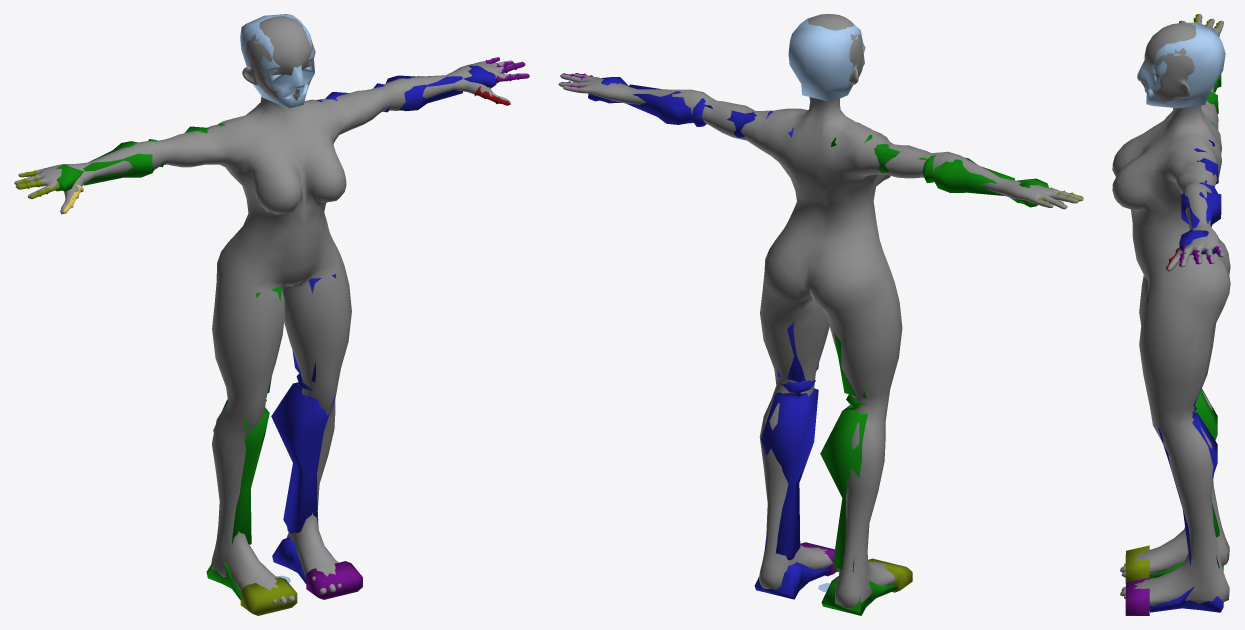
The model's file is dummy_01.obj.
3 views of the same model, side by side, from view 1: azimuth 30°, elevation 25°; view 2: azimuth 150°, elevation 25°; view 3: azimuth 270°, elevation 25° (orthographic).
Visible parts, largest first — view 1: Body, Bip001_L_Calf, Head, Bip001_Head, Bip001_R_Calf, Bip001_R_Toe0, Bip001_L_Toe0, Bip001_R_Forearm, Bip001_L_Forearm, Bip001_L_Foot; view 2: Body, Bip001_L_Calf, Bip001_Head, Bip001_R_Calf, Bip001_R_Forearm, Bip001_L_Forearm, Bip001_L_Foot, Head, Bip001_R_Foot; view 3: Body, Bip001_Head, Head, Bip001_L_Forearm, Bip001_L_Calf, Bip001_L_Toe0, Bip001_L_Foot, Bip001_R_Calf, Bip001_R_Toe0, Bip001_L_Hand, Bip001_L_UpperArm.
Part boxes in pixels (x1=…): Body: x1=14, y1=57, x2=528, y2=604; Bip001_L_Calf: x1=271, y1=373, x2=335, y2=533; Head: x1=242, y1=16, x2=313, y2=100; Bip001_Head: x1=240, y1=14, x2=315, y2=107; Bip001_R_Calf: x1=213, y1=399, x2=269, y2=544; Bip001_R_Toe0: x1=240, y1=577, x2=297, y2=615; Bip001_L_Toe0: x1=306, y1=561, x2=362, y2=599; Bip001_R_Forearm: x1=83, y1=139, x2=164, y2=185; Bip001_L_Forearm: x1=374, y1=75, x2=462, y2=112; Bip001_L_Foot: x1=272, y1=536, x2=331, y2=583; Body: x1=558, y1=73, x2=1083, y2=608; Bip001_L_Calf: x1=761, y1=380, x2=818, y2=560; Bip001_Head: x1=788, y1=17, x2=865, y2=102; Bip001_R_Calf: x1=820, y1=394, x2=867, y2=572; Bip001_R_Forearm: x1=922, y1=155, x2=1014, y2=195; Bip001_L_Forearm: x1=626, y1=84, x2=706, y2=126; Bip001_L_Foot: x1=754, y1=562, x2=830, y2=599; Head: x1=808, y1=14, x2=863, y2=84; Bip001_R_Foot: x1=821, y1=576, x2=897, y2=615; Body: x1=1112, y1=14, x2=1230, y2=605; Bip001_Head: x1=1137, y1=22, x2=1225, y2=108; Head: x1=1140, y1=23, x2=1196, y2=102; Bip001_L_Forearm: x1=1181, y1=182, x2=1221, y2=228; Bip001_L_Calf: x1=1158, y1=406, x2=1219, y2=568; Bip001_L_Toe0: x1=1125, y1=577, x2=1149, y2=615; Bip001_L_Foot: x1=1149, y1=587, x2=1223, y2=612; Bip001_R_Calf: x1=1194, y1=389, x2=1219, y2=537; Bip001_R_Toe0: x1=1125, y1=545, x2=1149, y2=583; Bip001_L_Hand: x1=1179, y1=229, x2=1216, y2=254; Bip001_L_UpperArm: x1=1194, y1=148, x2=1218, y2=184.
Size of the model in its own units: 1734 by 1837 by 349.
